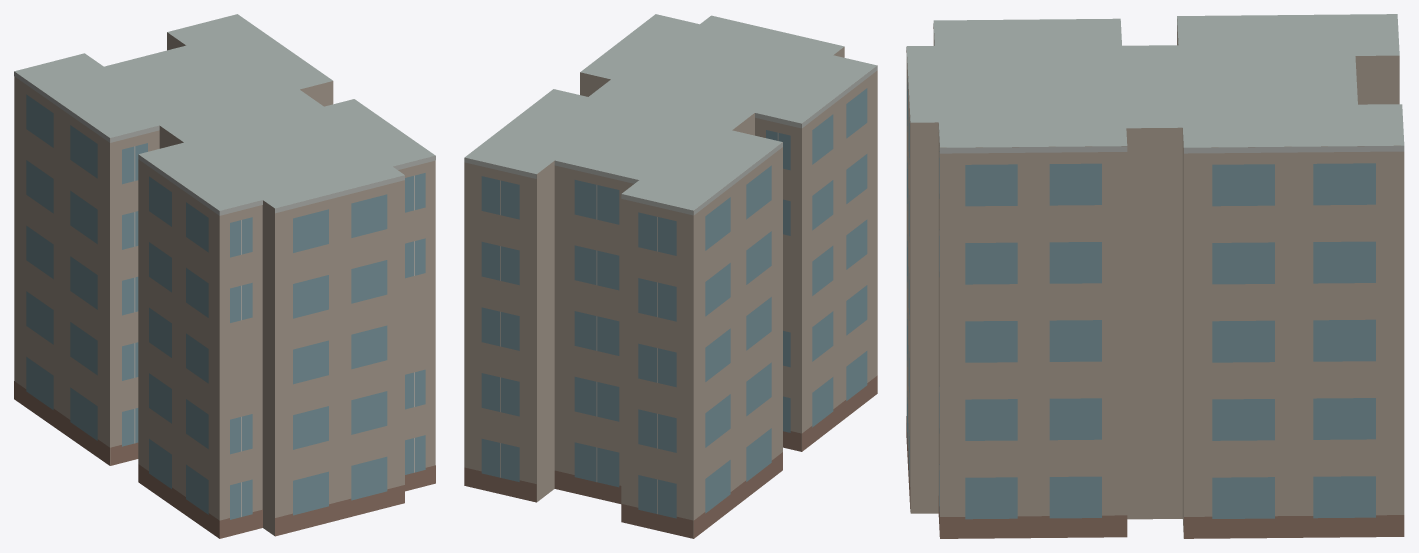
File: survey-upis-32662004.glb
The picture shows the model from 3 angles, left to right: view 1: azimuth 30°, elevation 25°; view 2: azimuth 150°, elevation 25°; view 3: azimuth 270°, elevation 25°; orthographic projection. The views are drawn at different scales.
Visible parts, largest first — view 1: survey-upis-32662004.tmp; view 2: survey-upis-32662004.tmp; view 3: survey-upis-32662004.tmp.
Part boxes in pixels (left/top/right/bottom): survey-upis-32662004.tmp: left=14, top=14, right=435, bottom=538; survey-upis-32662004.tmp: left=464, top=14, right=877, bottom=538; survey-upis-32662004.tmp: left=906, top=14, right=1404, bottom=538.
Bounding box in the file's own units: 12.05 × 16.41 × 18.94.
